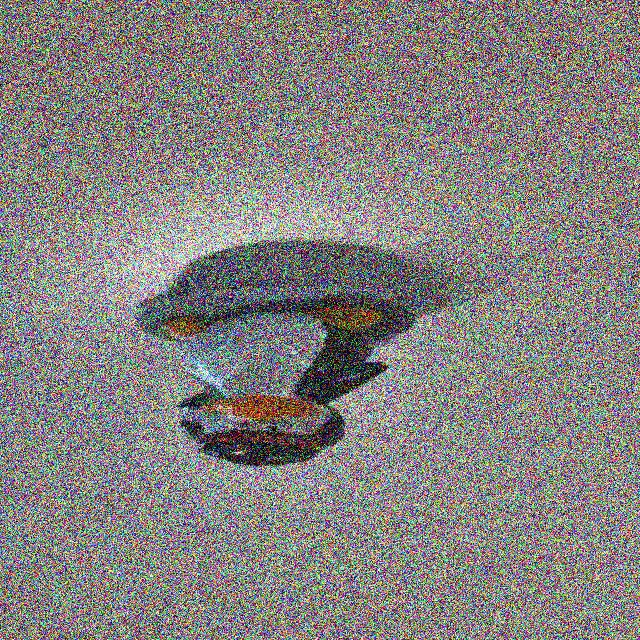Penguin: (118, 278, 455, 472)
